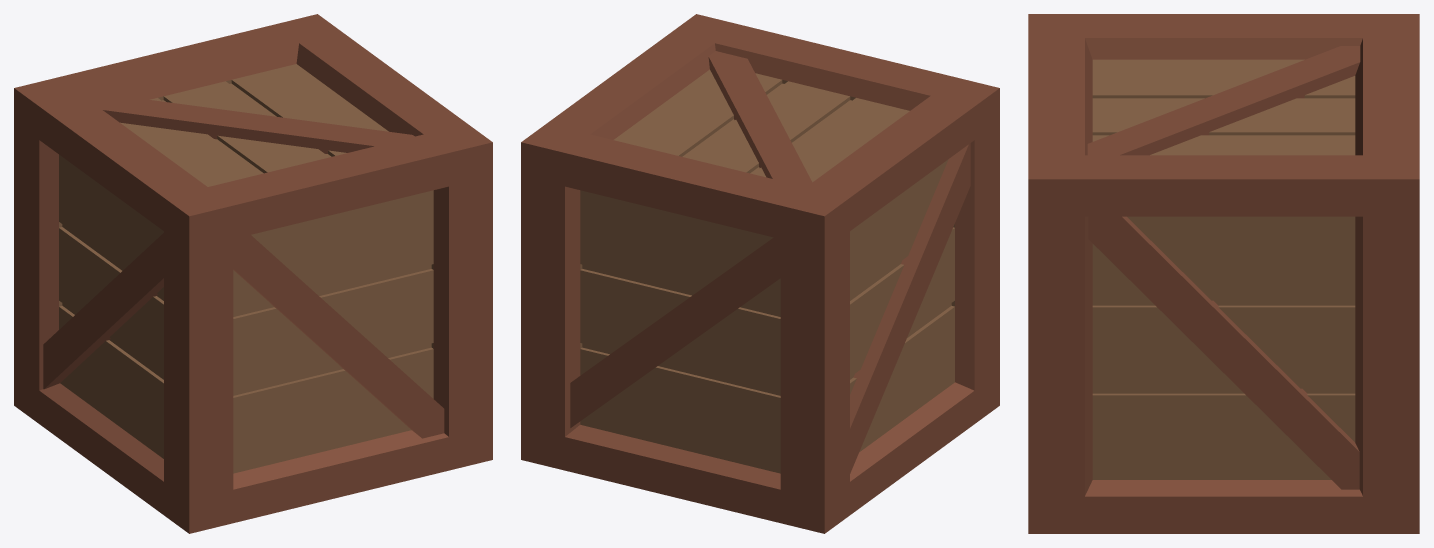
Rendered from env-box3.fbx.
3 renders of one model, left to right at view 1: azimuth 30°, elevation 25°; view 2: azimuth 150°, elevation 25°; view 3: azimuth 270°, elevation 25°, orthographic. The views are drawn at different scales.
Visible parts, largest first — view 1: Cube.564; view 2: Cube.564; view 3: Cube.564.
Part boxes in pixels (bbox=[...]): Cube.564: bbox=[14, 14, 492, 533]; Cube.564: bbox=[521, 14, 999, 533]; Cube.564: bbox=[1028, 14, 1419, 533].
Bounding box in the file's own units: 87.59 × 87.59 × 87.59.
